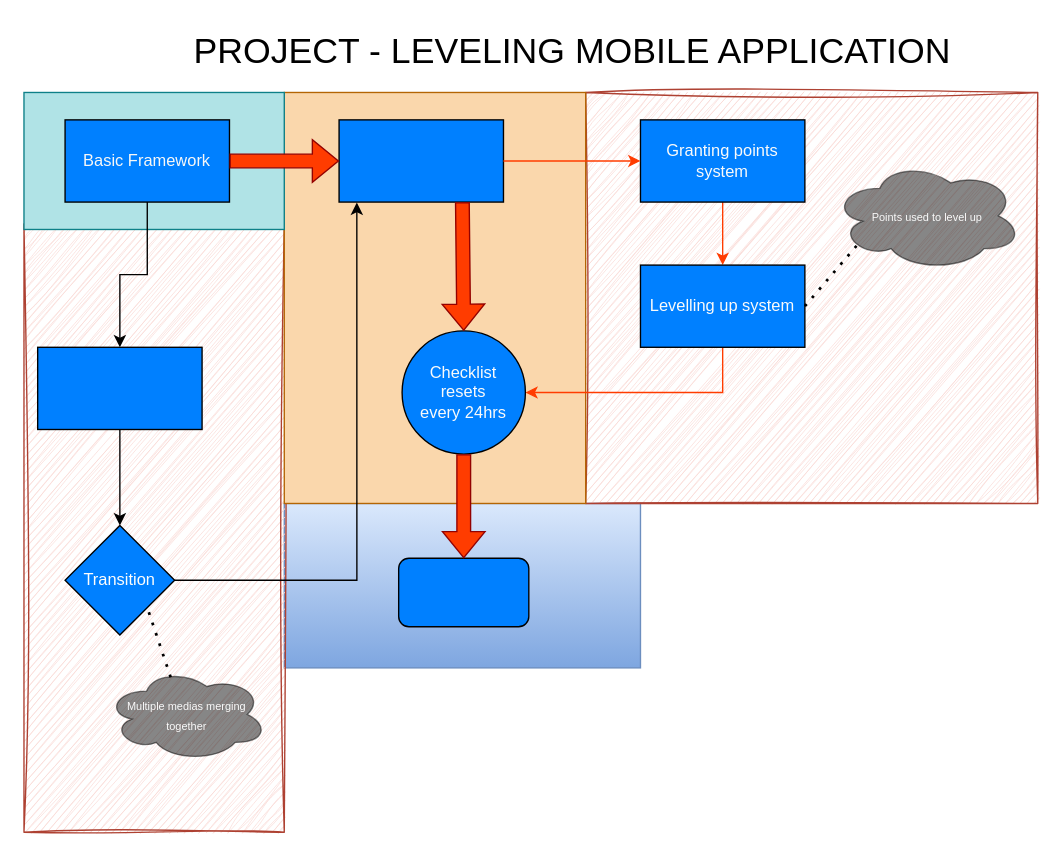
This 1062x856 diagram has some shape labels left out. Here are the shapes that lost their labels. From the top down, the centre of each, then its label:
the point at 420,160: Adding Checklist
the point at 119,387: Adding Animatied Background
the point at 463,592: Finalize and frequent Maintance
